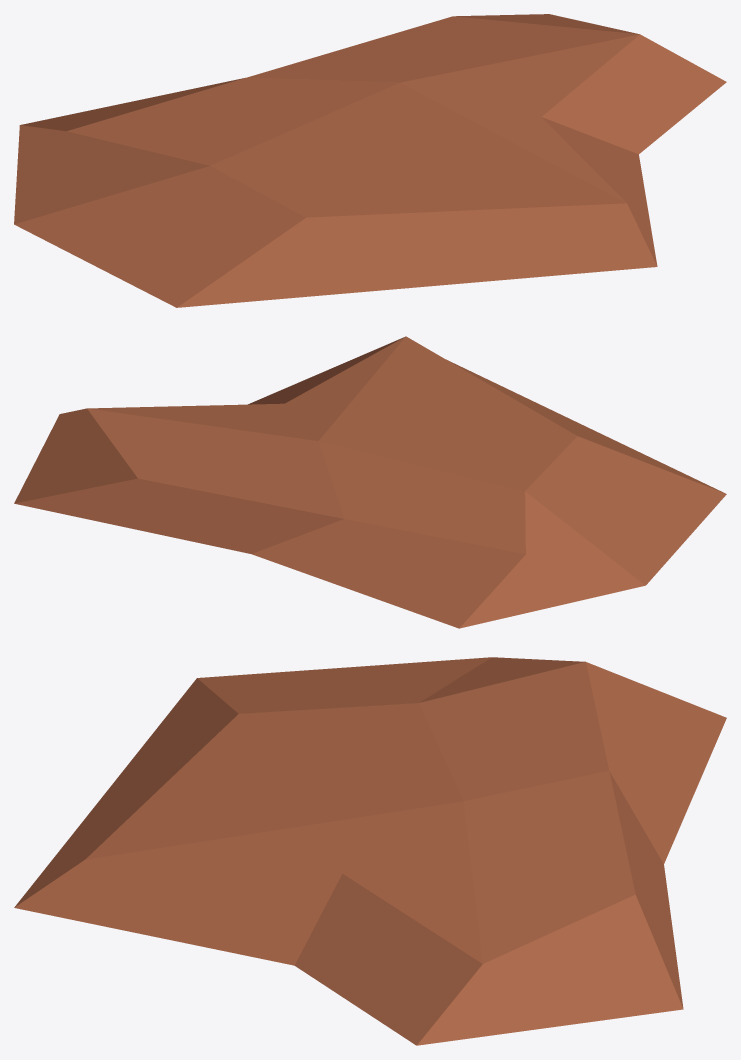
Rendered from pebble3.glb.
3 renders of one model, top to bottom at view 1: azimuth 30°, elevation 25°; view 2: azimuth 150°, elevation 25°; view 3: azimuth 270°, elevation 25°, orthographic. The views are drawn at different scales.
Parts seen in each view (by area): view 1: pebble3; view 2: pebble3; view 3: pebble3.
Part boxes in pixels (box(x1,y1,x2,y2)): pebble3: box(14, 14, 726, 307); pebble3: box(14, 336, 726, 628); pebble3: box(14, 657, 726, 1045).
Bounding box in the file's own units: 0.8134 × 0.068 × 0.6308.
